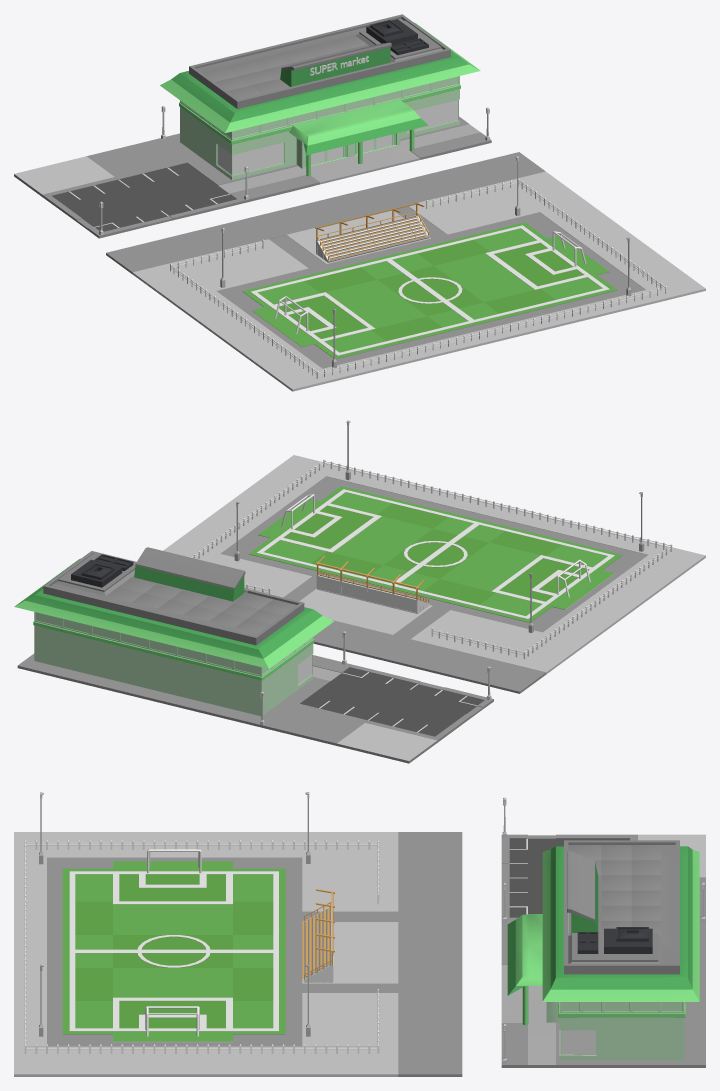
Rendered from LowPolyFotballMarket.fbx.
The picture shows the model from 3 angles, top to bottom: view 1: azimuth 30°, elevation 25°; view 2: azimuth 150°, elevation 25°; view 3: azimuth 270°, elevation 25°; orthographic projection. The views are drawn at different scales.
Parts seen in each view (by area): view 1: World.FotballField, World.Supermarket.001, World.Supermarket.002; view 2: World.FotballField, World.Supermarket.001, World.Supermarket.002; view 3: World.FotballField, World.Supermarket.001, World.Supermarket.002.
Boxes of the visible parts, <box> form: World.FotballField: <box>106,152,705,391</box>; World.Supermarket.001: <box>99,14,490,235</box>; World.Supermarket.002: <box>14,116,491,238</box>; World.FotballField: <box>163,420,705,693</box>; World.Supermarket.001: <box>14,547,491,725</box>; World.Supermarket.002: <box>17,653,493,763</box>; World.FotballField: <box>14,792,462,1076</box>; World.Supermarket.001: <box>502,797,705,1064</box>; World.Supermarket.002: <box>501,834,705,1067</box>.
Bounding box in the file's own units: 6126 × 1399 × 7398.
